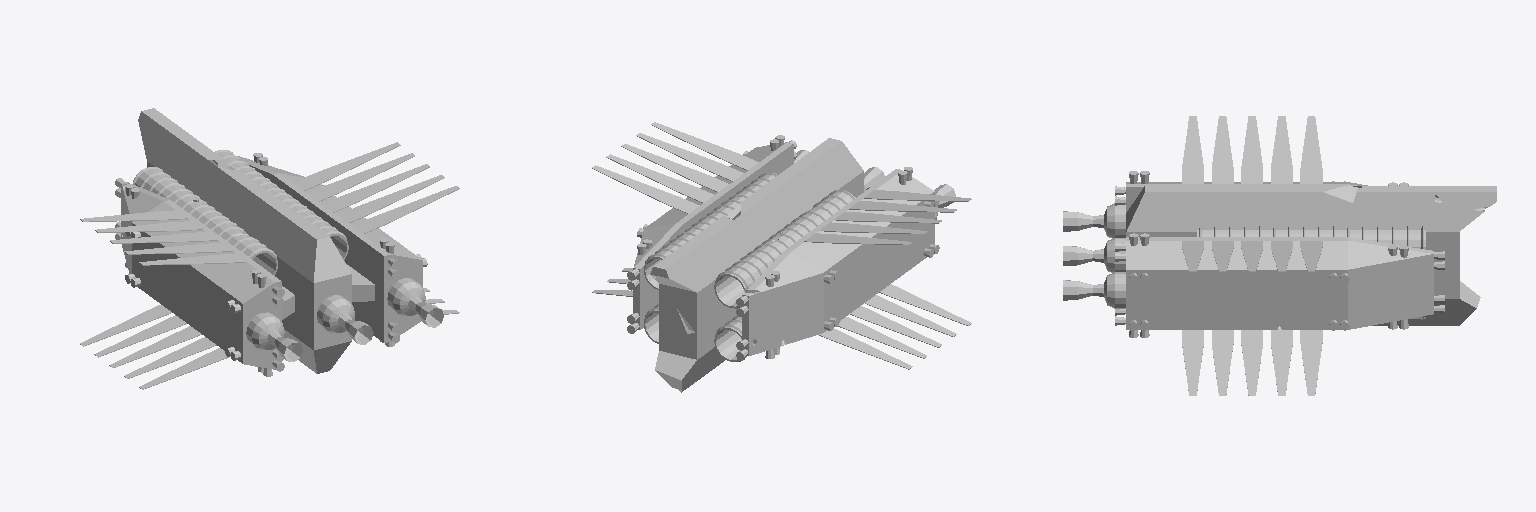
File: Missile Carrierdamged(cleanedup)shouldworkifnotimamdying.mtl.obj
The picture shows the model from 3 angles: view 1: azimuth 30°, elevation 25°; view 2: azimuth 150°, elevation 25°; view 3: azimuth 270°, elevation 25°; orthographic projection.
Visible parts, largest first — view 1: Cube; view 2: Cube; view 3: Cube.
Part boxes in pixels (x1,y1,x2,y2): Cube: (80,108,459,389); Cube: (592,122,971,392); Cube: (1063,116,1496,395).
Bounding box in the file's own units: 99.1 × 40 × 117.